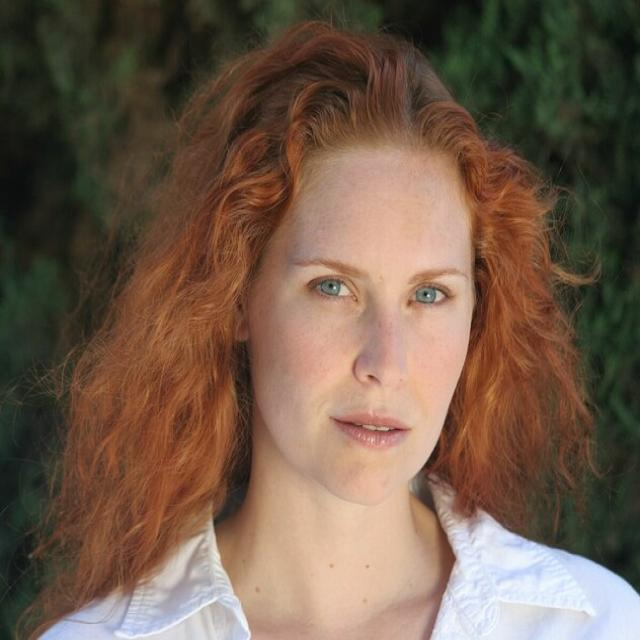Nonhelmet: (185, 30, 512, 511)
